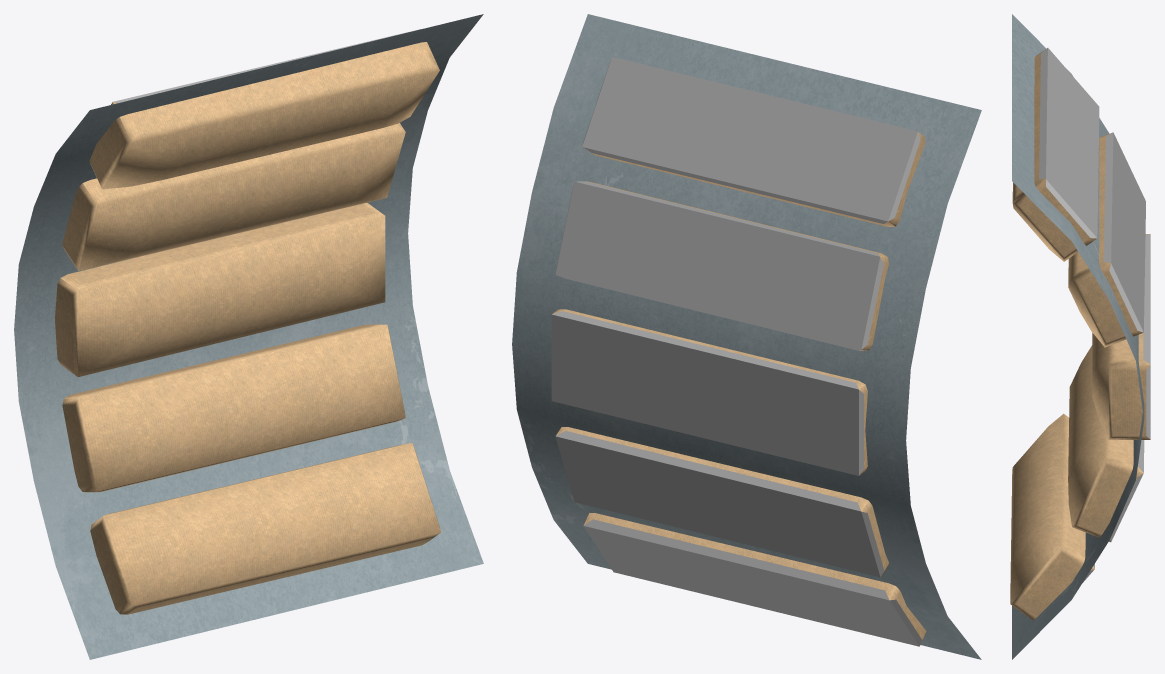
File: Wall_Padded.fbx
3 renders of one model, left to right at view 1: azimuth 30°, elevation 25°; view 2: azimuth 150°, elevation 25°; view 3: azimuth 270°, elevation 25°, orthographic. The views are drawn at different scales.
Visible parts, largest first — view 1: pPlane2; view 2: pPlane2; view 3: pPlane2.
Boxes of the visible parts, left/top/right/bottom form: pPlane2: left=14, top=14, right=483, bottom=659; pPlane2: left=512, top=14, right=981, bottom=659; pPlane2: left=1010, top=14, right=1150, bottom=659.
Bounding box in the file's own units: 3 × 4 × 1.07.
